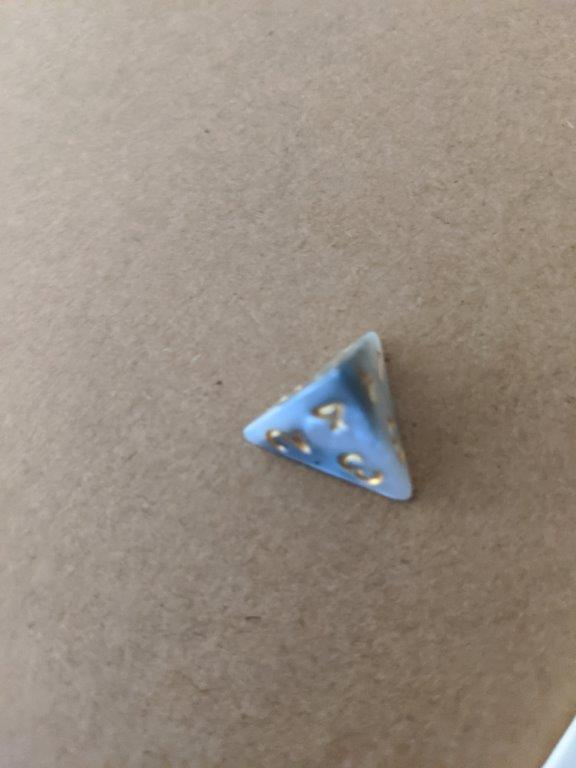d4-4: (241, 326, 419, 508)
